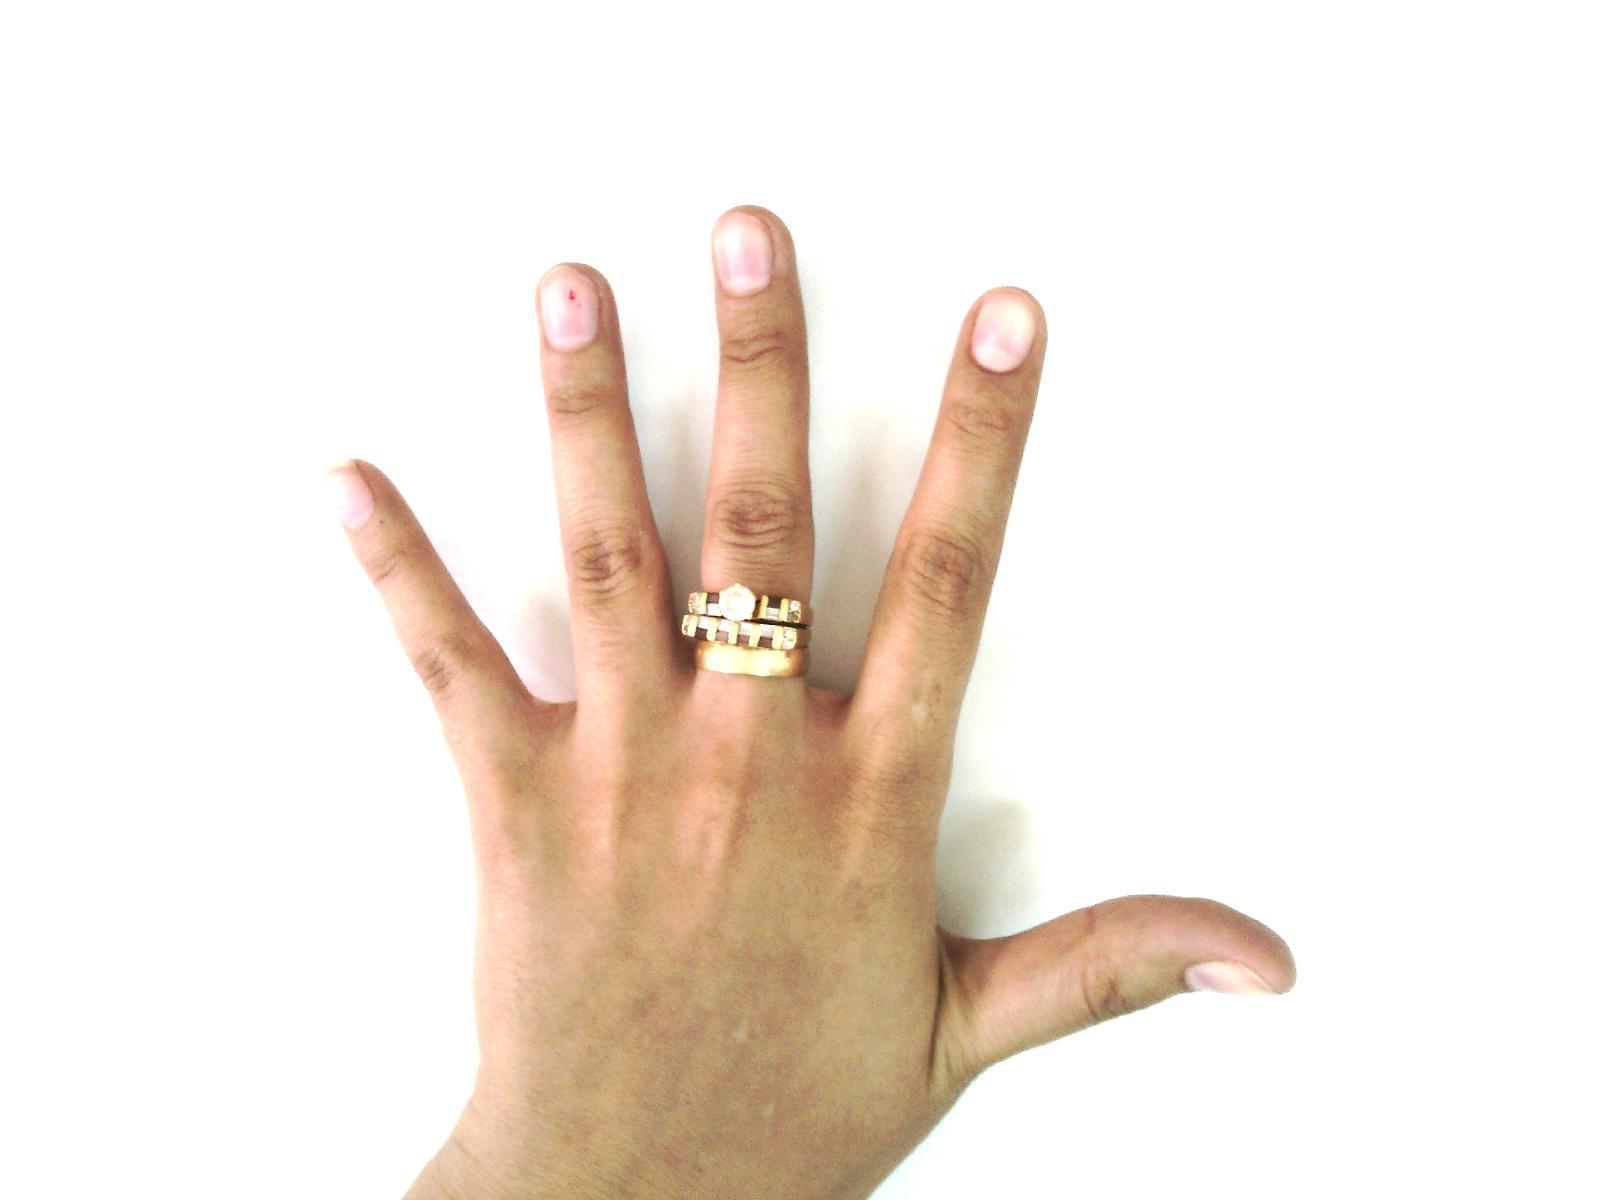hand: (321, 200, 1299, 1195)
